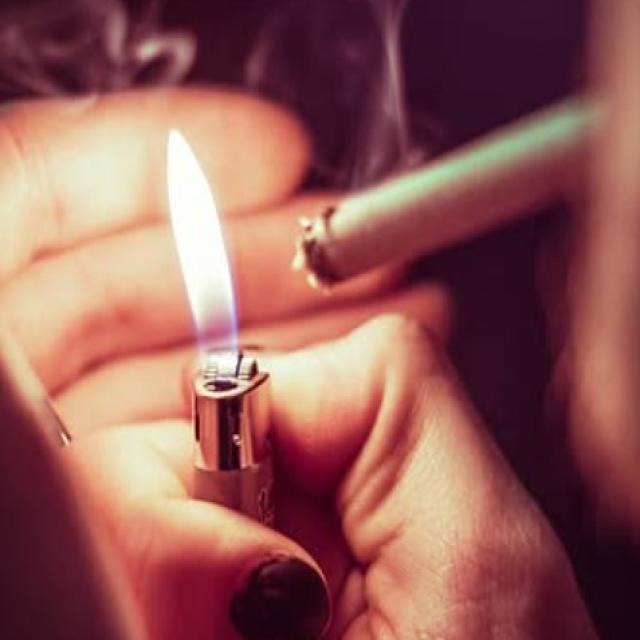fire: (167, 129, 237, 376)
